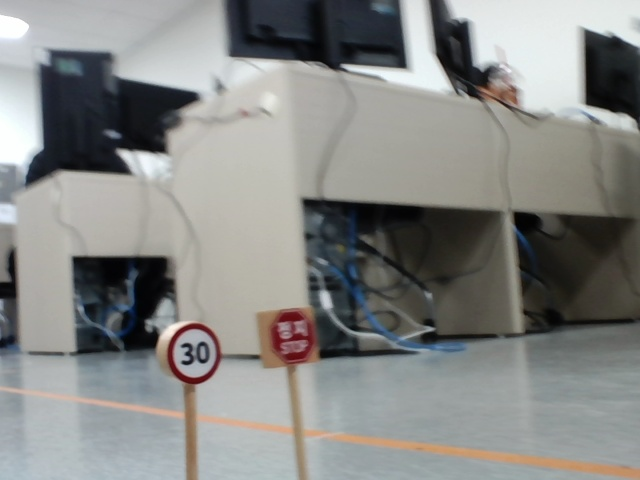limit_sign: (165, 323, 221, 383)
stop_sign: (270, 309, 314, 363)
